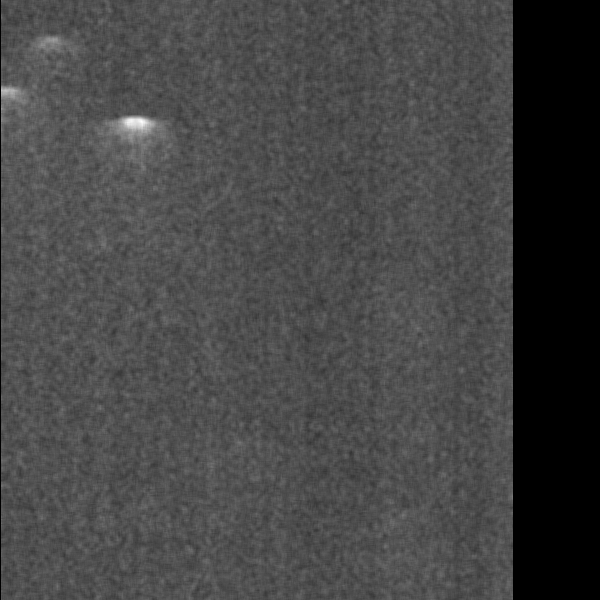spark: (244, 335, 287, 409)
